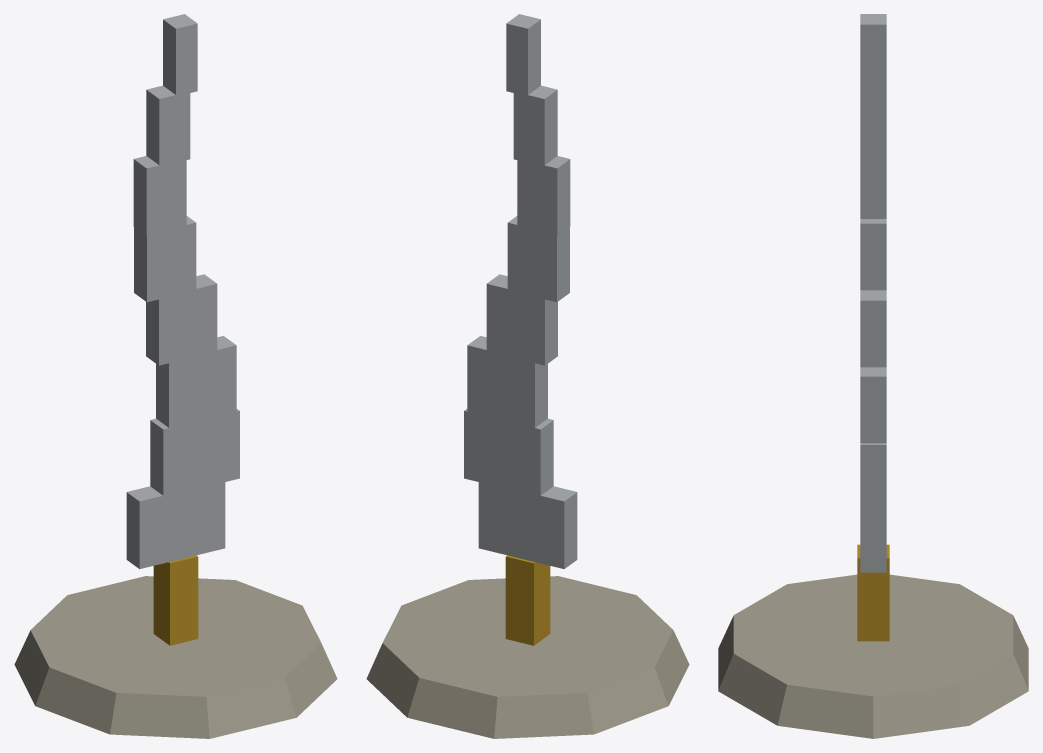
File: tugu-keris-lod1.glb
3 views of the same model, side by side, from view 1: azimuth 30°, elevation 25°; view 2: azimuth 150°, elevation 25°; view 3: azimuth 270°, elevation 25° (orthographic).
Visible parts, largest first — view 1: tugu-keris_LOD1; view 2: tugu-keris_LOD1; view 3: tugu-keris_LOD1.
Boxes of the visible parts, x1,y1,x2,y2 form: tugu-keris_LOD1: (14,14,337,738); tugu-keris_LOD1: (366,14,689,738); tugu-keris_LOD1: (718,14,1028,738).
Bounding box in the file's own units: 10 × 22.05 × 9.51.
